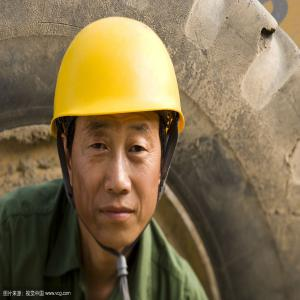yellow: (51, 17, 184, 248)
